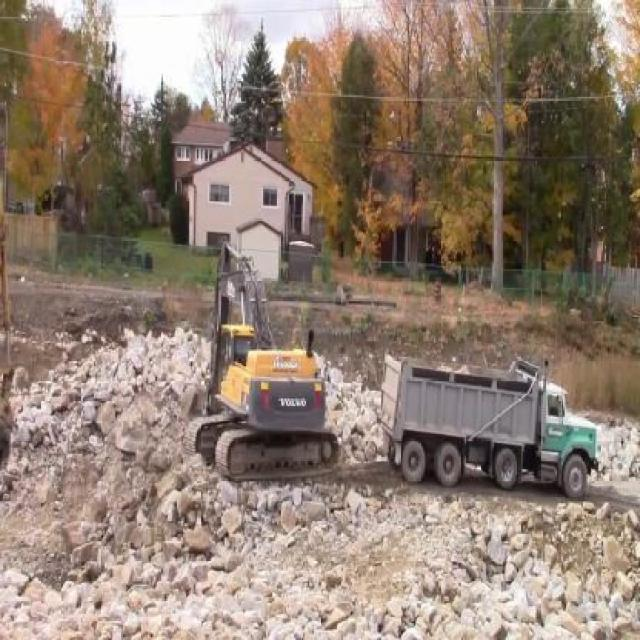Dump Truck: (374, 344, 598, 493)
Excavator: (180, 243, 346, 479)
